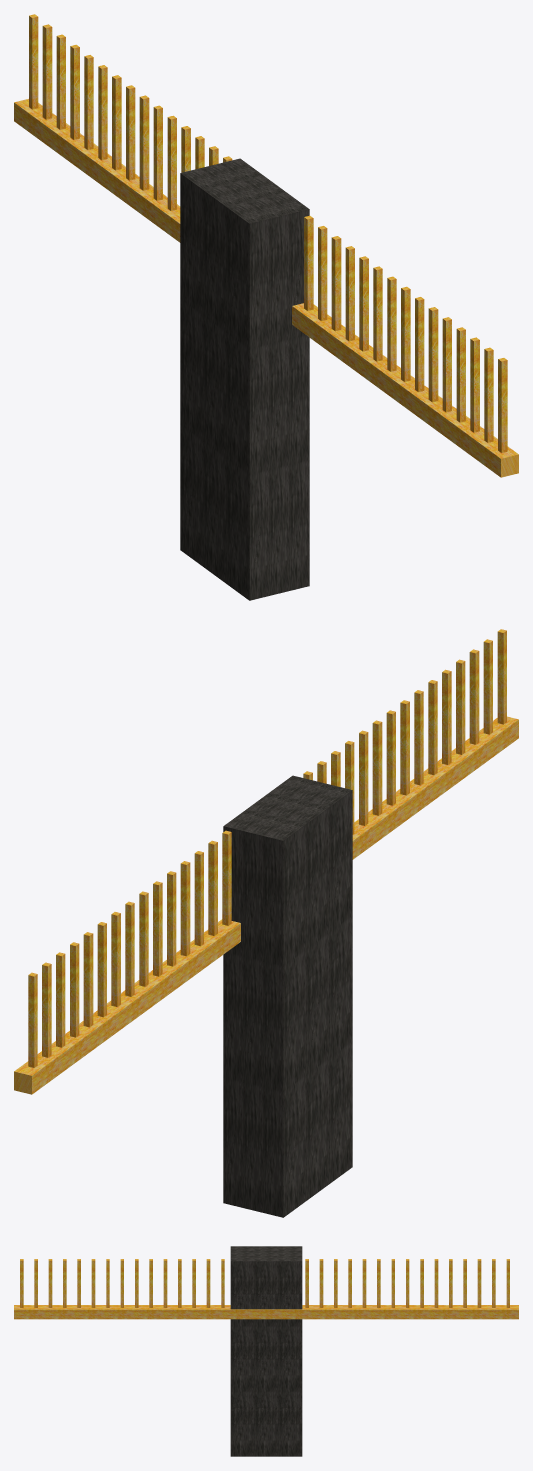
The model's file is Reja_Entorno.obj.
The picture shows the model from 3 angles, top to bottom: view 1: azimuth 30°, elevation 25°; view 2: azimuth 150°, elevation 25°; view 3: azimuth 270°, elevation 25°; orthographic projection. The views are drawn at different scales.
Visible parts, largest first — view 1: Reja_Entorno; view 2: Reja_Entorno; view 3: Reja_Entorno.
Boxes of the visible parts, x1=… form: Reja_Entorno: x1=14, y1=14, x2=518, y2=600; Reja_Entorno: x1=14, y1=629, x2=518, y2=1217; Reja_Entorno: x1=14, y1=1246, x2=518, y2=1456.
Size of the model in its own units: 1.01 by 6 by 14.05.
2 materials, 2 textured.
